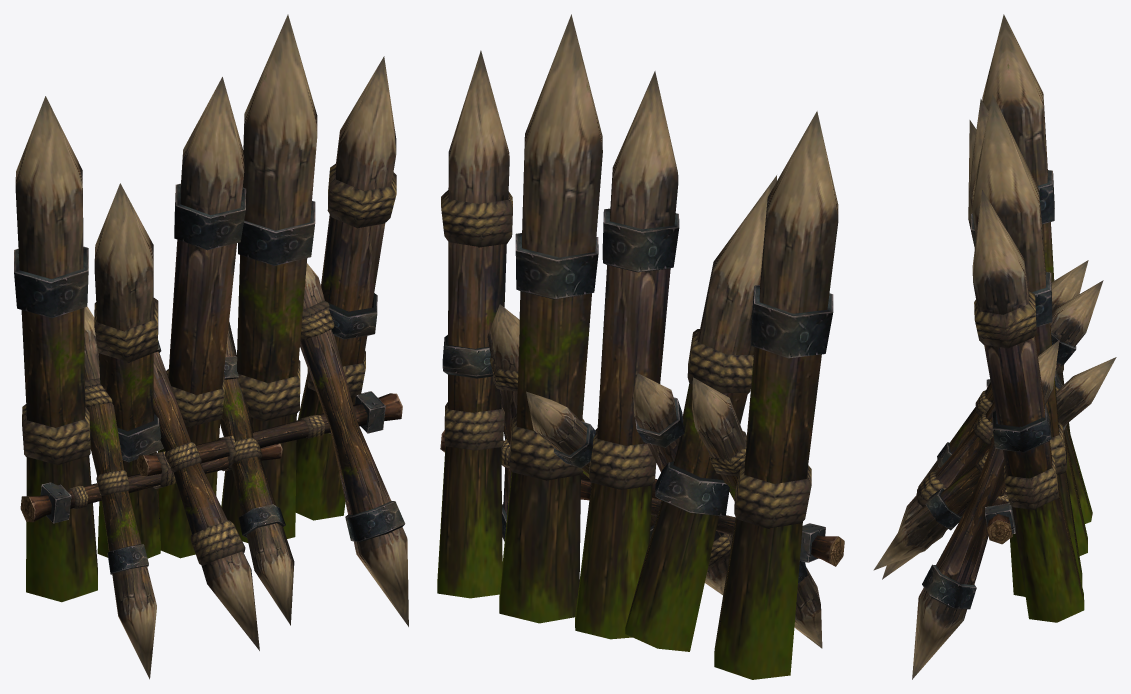
File: lumina_object_human_wall_01.FBX
3 views of the same model, side by side, from view 1: azimuth 30°, elevation 25°; view 2: azimuth 150°, elevation 25°; view 3: azimuth 270°, elevation 25° (orthographic). The views are drawn at different scales.
Parts seen in each view (by area): view 1: lumina_object_human_wall_01; view 2: lumina_object_human_wall_01; view 3: lumina_object_human_wall_01.
Part boxes in pixels (<box>): lumina_object_human_wall_01: <box>14,14,408,679</box>; lumina_object_human_wall_01: <box>437,14,844,679</box>; lumina_object_human_wall_01: <box>873,14,1116,679</box>.
Bounding box in the file's own units: 4.07 × 6.2 × 2.48.
